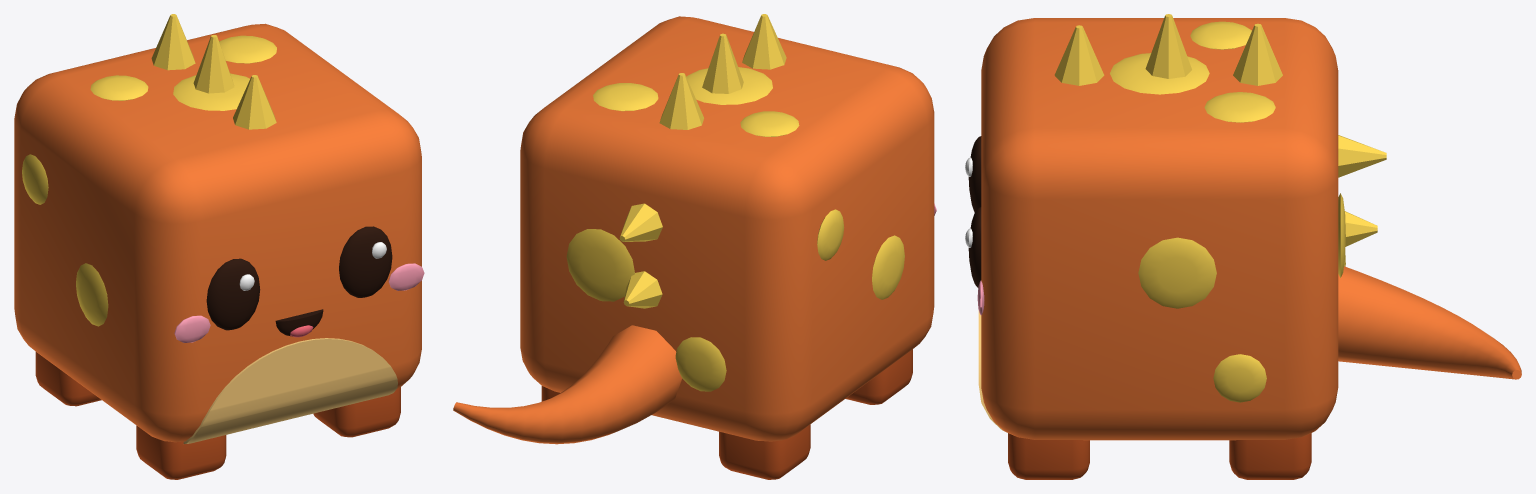
The model's file is Salamander.fbx.
3 views of the same model, side by side, from view 1: azimuth 30°, elevation 25°; view 2: azimuth 150°, elevation 25°; view 3: azimuth 270°, elevation 25° (orthographic). The views are drawn at different scales.
Visible parts, largest first — view 1: Salamander; view 2: Salamander; view 3: Salamander.
Part boxes in pixels (x1,y1,x2,y2): Salamander: [14, 14, 424, 479]; Salamander: [453, 14, 936, 479]; Salamander: [965, 14, 1521, 479].
Bounding box in the file's own units: 2.08 × 2.51 × 3.12.
Materials: 1 (1 with a texture image).
